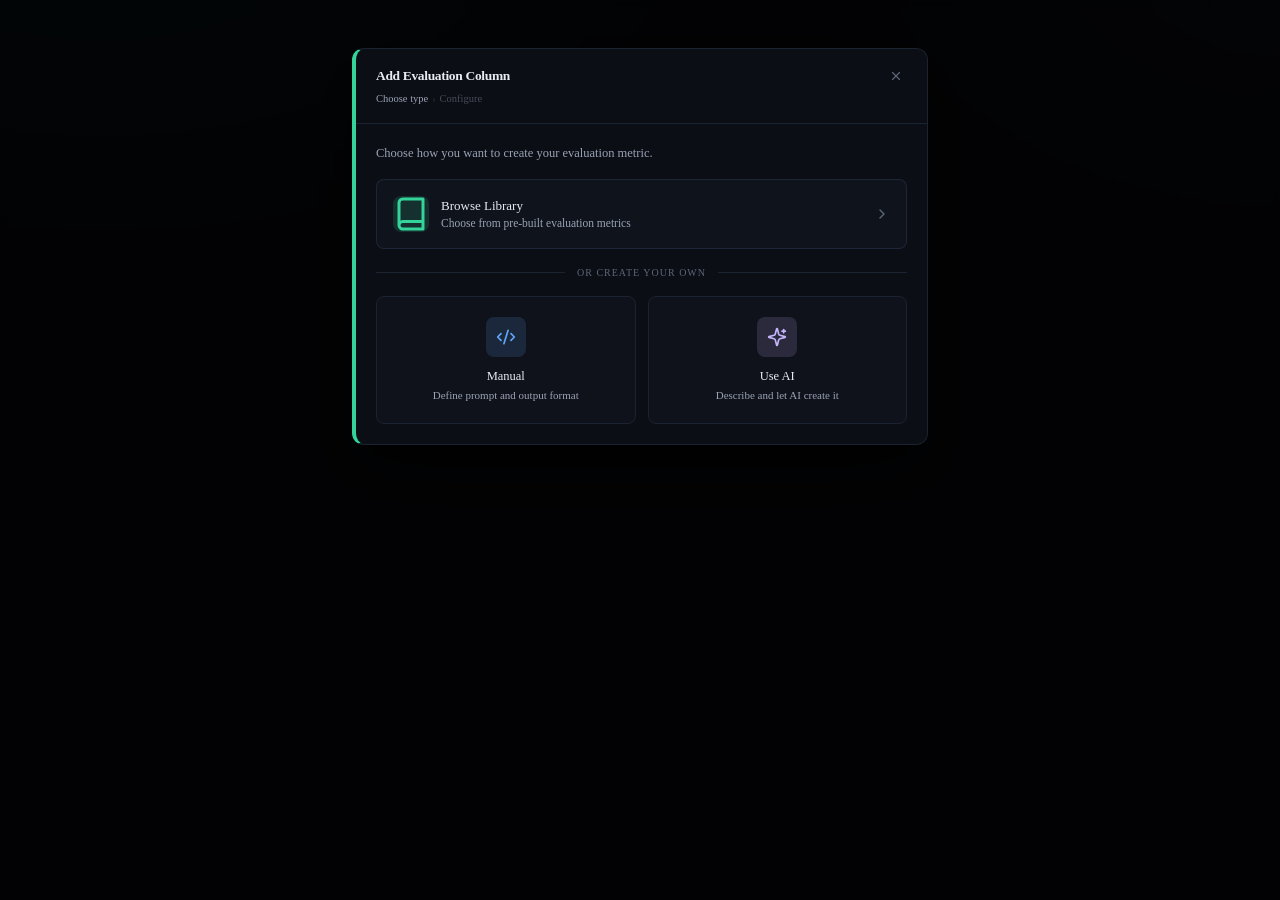
Test case: decision-model columns › a new column opens on the decision default and its question types
Click the text "Manual".
click(506, 376)  # box [487, 369, 525, 383]
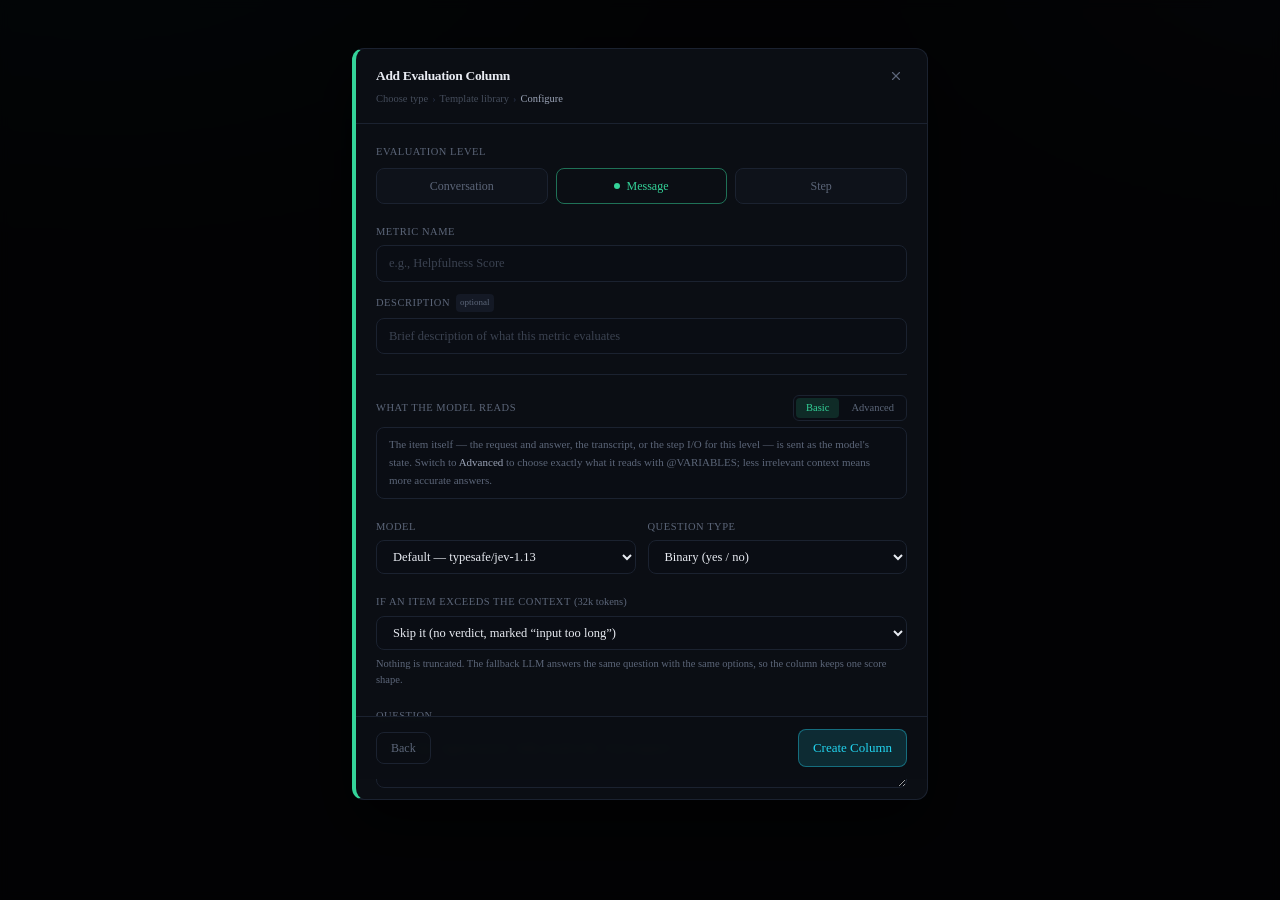
Check: the text "Question Type" is shown, box [648, 521, 736, 532]
Check: the 1st dropdown showing "Default — typesafe/jev-1.13" is shown, box [376, 540, 636, 574]
Check: the dropdown showing "Binary (yes / no)" below "Question Type" is shown, box [648, 540, 907, 574]
